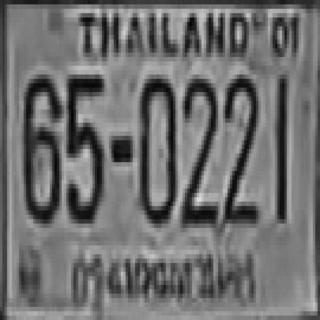N00: (138, 72, 176, 221)
N01: (273, 74, 287, 219)
N02: (180, 74, 216, 224), (222, 72, 257, 221)
N05: (64, 70, 102, 219)
N06: (21, 70, 59, 219)
P04: (68, 246, 261, 313)
